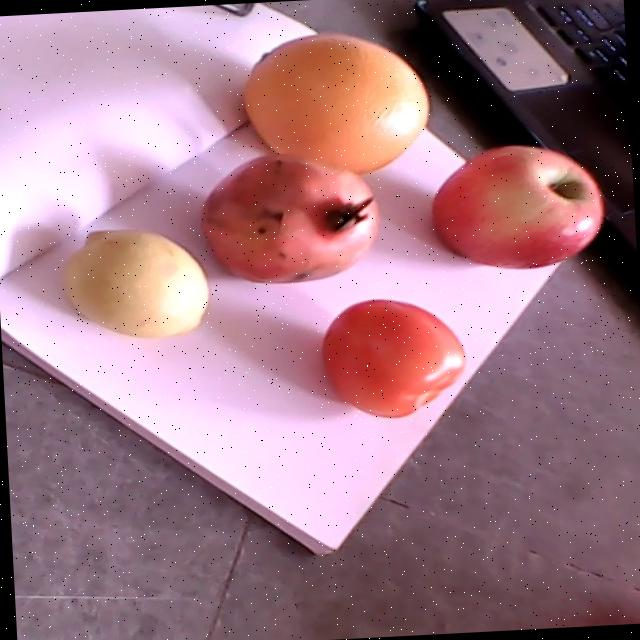apple: (431, 143, 601, 266)
lemon: (56, 231, 212, 338)
orange: (242, 36, 427, 174)
pomegranate: (198, 153, 378, 284)
tomato: (320, 299, 464, 417)
